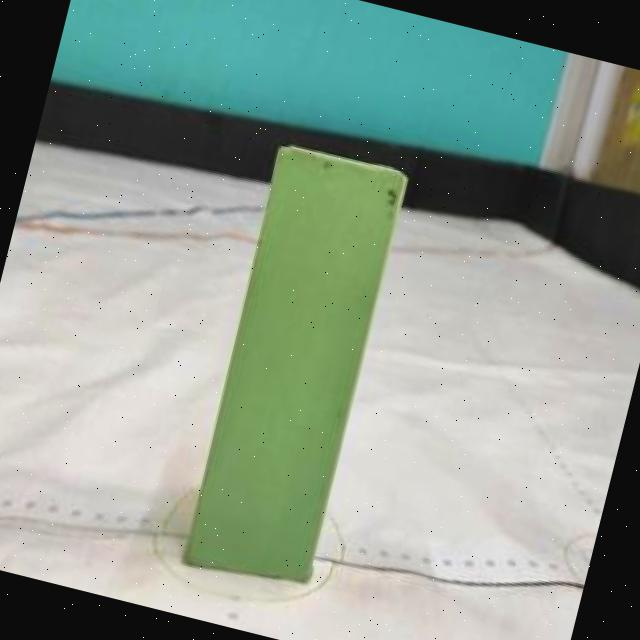greenbox: (178, 140, 410, 595)
